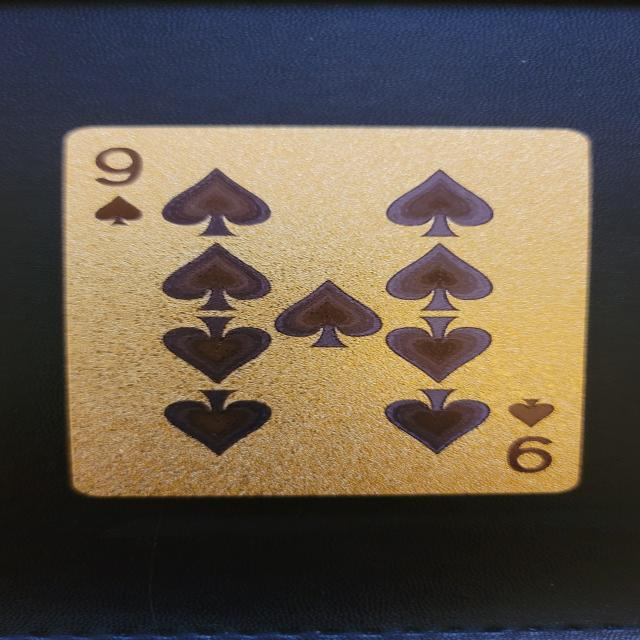9 of spades: (64, 125, 593, 497)
